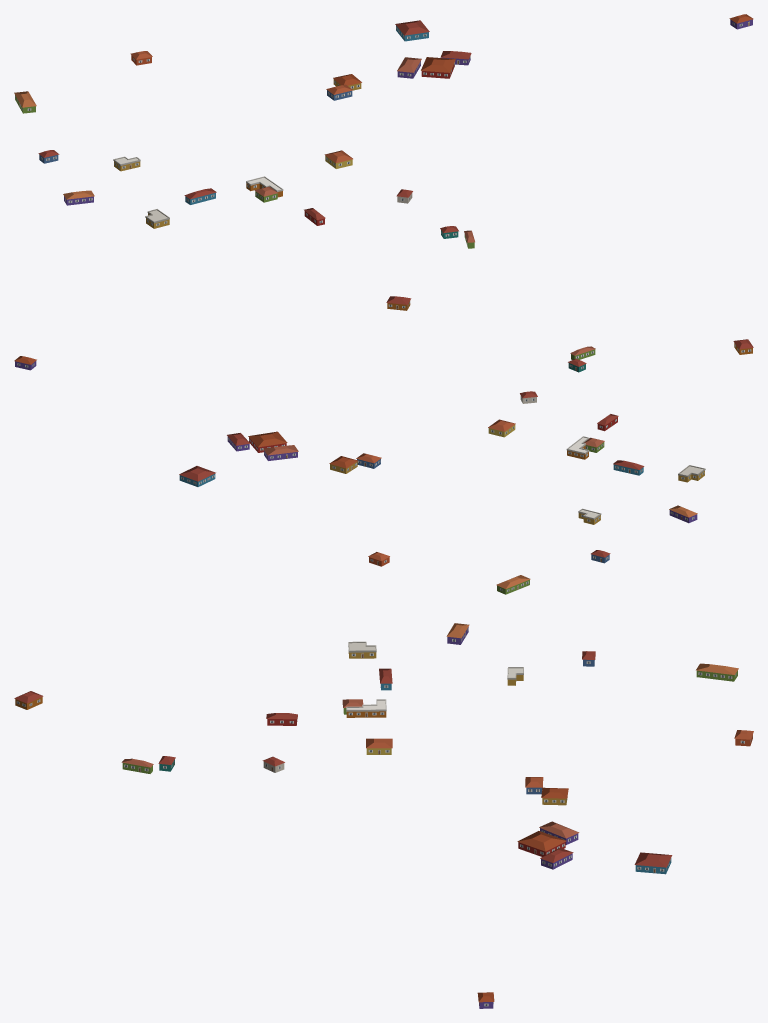
File: msb_noord_m13_m7.glb
The picture shows the model from 3 angles, top to bottom: view 1: azimuth 30°, elevation 25°; view 2: azimuth 150°, elevation 25°; view 3: azimuth 270°, elevation 25°; orthographic projection. The views are drawn at different scales.
Visible parts, largest first — view 1: msb_noord_m13_m7_lod0; view 2: msb_noord_m13_m7_lod0; view 3: msb_noord_m13_m7_lod0.
Part boxes in pixels (x1,y1,x2,y2): msb_noord_m13_m7_lod0: [14, 14, 753, 310]; msb_noord_m13_m7_lod0: [14, 339, 753, 594]; msb_noord_m13_m7_lod0: [14, 623, 753, 1008].
Size of what is drawn, in the model's own units: 406 by 14.69 by 333.
3 materials, 1 textured.
